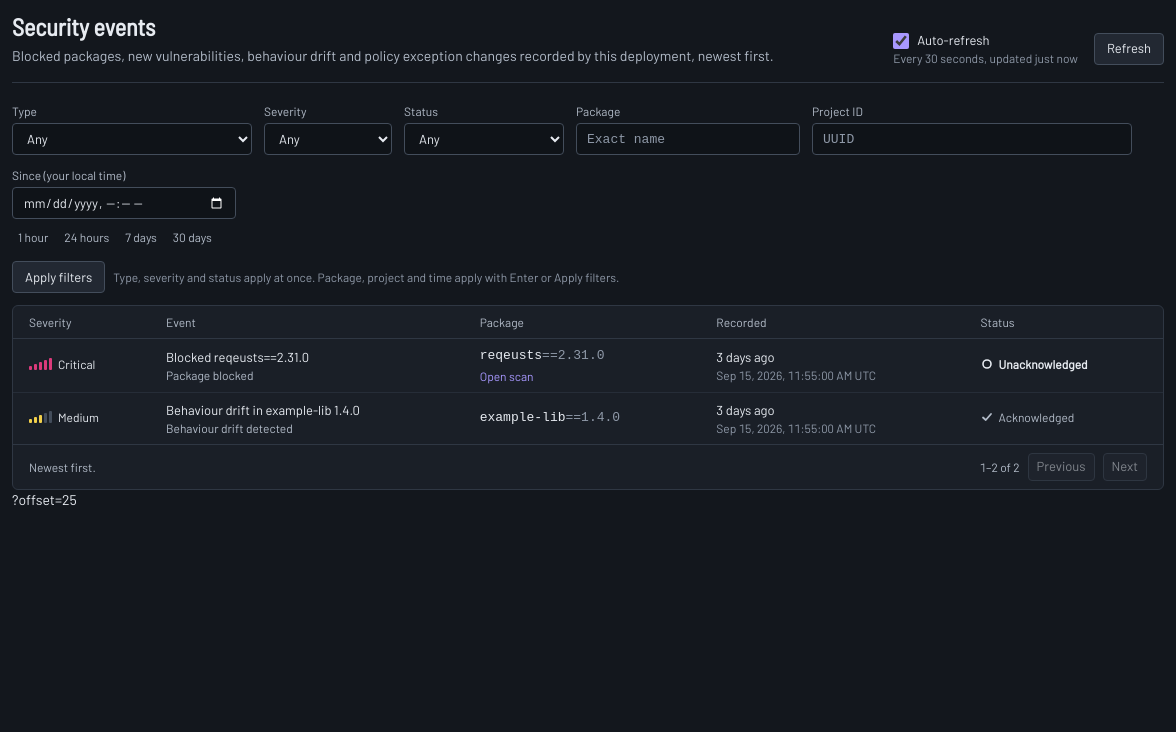
Test: Events › applies a select filter at once and returns to the first page
Step 1. Select "Critical" in the dropdown labelled "Severity" → (328, 139), box [264,123,392,155]
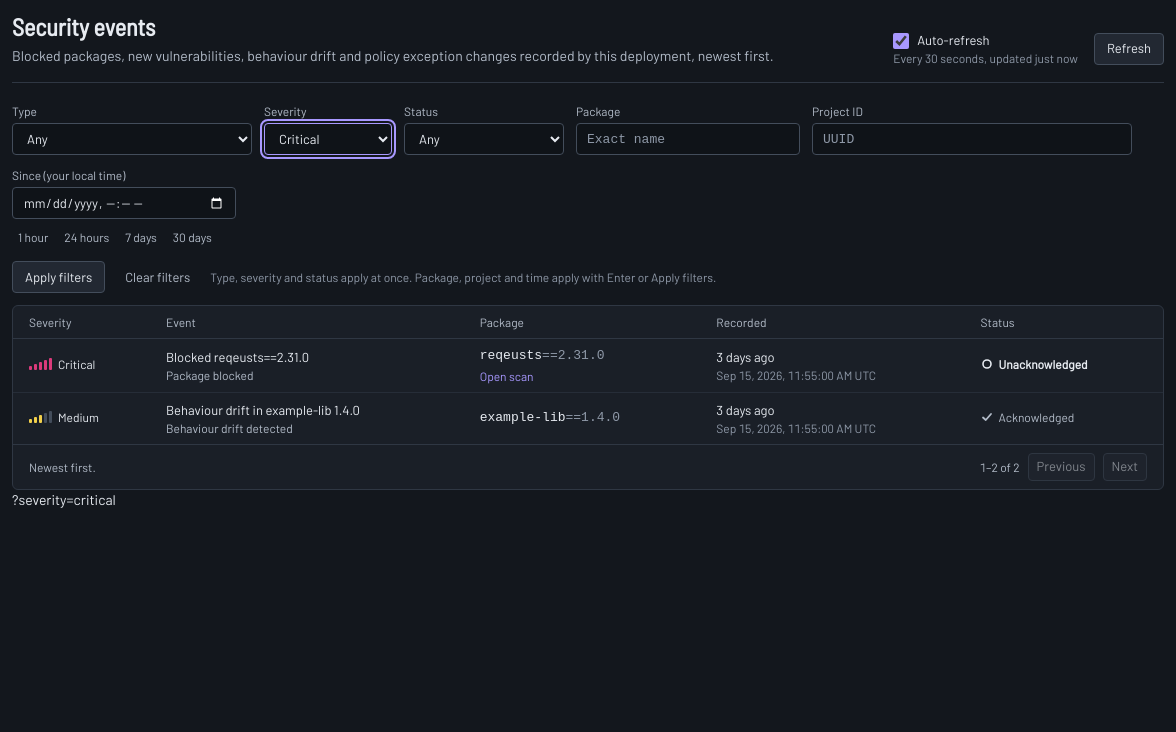
Now the text named "Current search" reads "?severity=critical", box [12,491,116,508]
